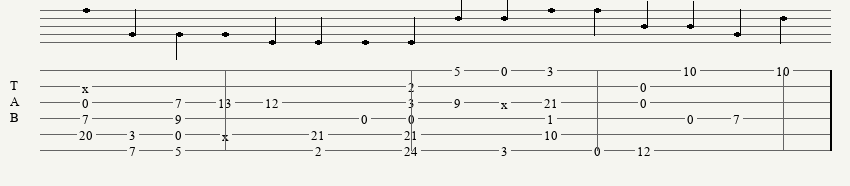0: (82, 96, 93, 109), (175, 128, 186, 141), (361, 112, 372, 125), (408, 112, 419, 125), (501, 64, 512, 77), (594, 144, 605, 157), (640, 96, 651, 109), (640, 80, 651, 93), (687, 112, 698, 125)
1: (547, 112, 558, 125)
10: (544, 128, 562, 141), (683, 64, 701, 77), (776, 64, 794, 77)
12: (265, 96, 283, 109), (637, 144, 655, 157)
13: (218, 96, 236, 109)
2: (315, 144, 326, 157), (408, 80, 419, 93)
20: (79, 128, 97, 141)
21: (311, 128, 329, 141), (404, 128, 422, 141), (544, 96, 562, 109)
24: (404, 144, 422, 157)
3: (129, 128, 140, 141), (408, 96, 419, 109), (501, 144, 512, 157), (547, 64, 558, 77)
5: (175, 144, 186, 157), (454, 64, 465, 77)
7: (82, 112, 93, 125), (129, 144, 140, 157), (175, 96, 186, 109), (733, 112, 744, 125)
9: (175, 112, 186, 125), (454, 96, 465, 109)
x: (82, 81, 93, 91), (222, 129, 233, 139), (501, 97, 512, 107)
